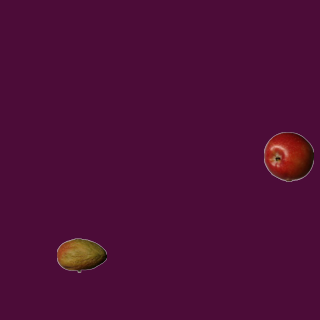Apple Braeburn: (263, 131, 313, 181)
Papaya: (56, 230, 106, 280)
